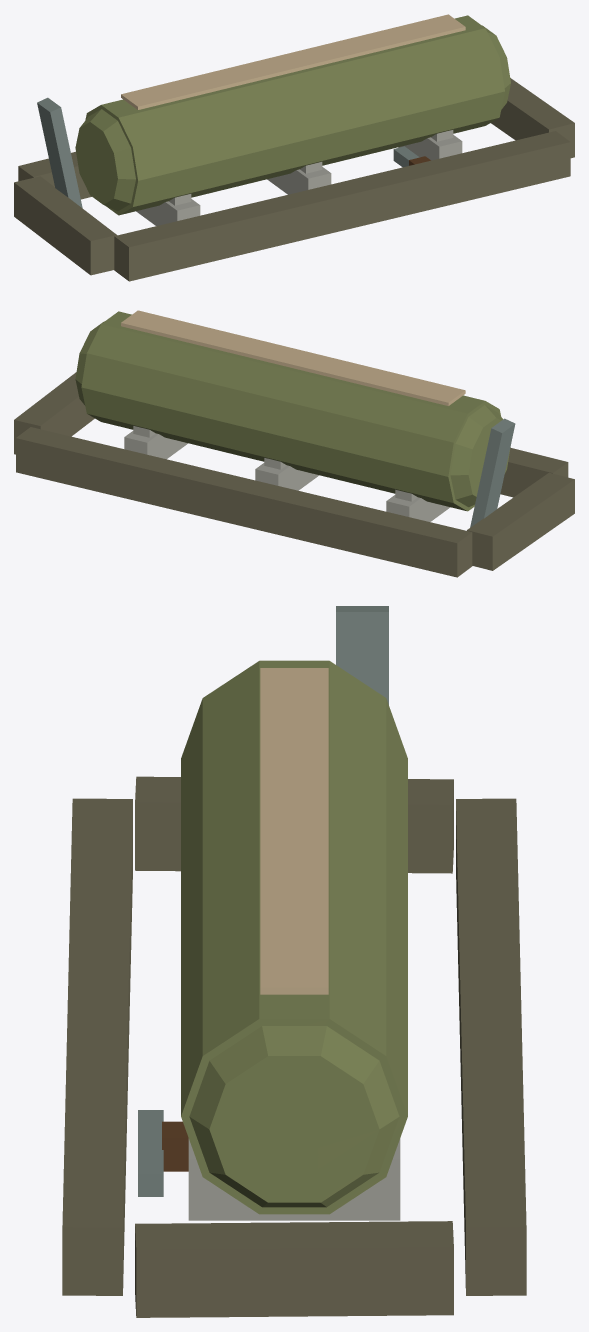
Rendered from SM_TanqueCombustible_v4_LOD1.fbx.
The picture shows the model from 3 angles, top to bottom: view 1: azimuth 30°, elevation 25°; view 2: azimuth 150°, elevation 25°; view 3: azimuth 270°, elevation 25°; orthographic projection. The views are drawn at different scales.
Visible parts, largest first — view 1: SM_tanque_combustible_v4_LOD1; view 2: SM_tanque_combustible_v4_LOD1; view 3: SM_tanque_combustible_v4_LOD1.
Boxes of the visible parts, x1,y1,x2,y2 form: SM_tanque_combustible_v4_LOD1: (14,14,574,281); SM_tanque_combustible_v4_LOD1: (14,310,574,577); SM_tanque_combustible_v4_LOD1: (62,606,526,1317).
Size of the model in its own units: 14.78 by 3.7 by 6.13.
